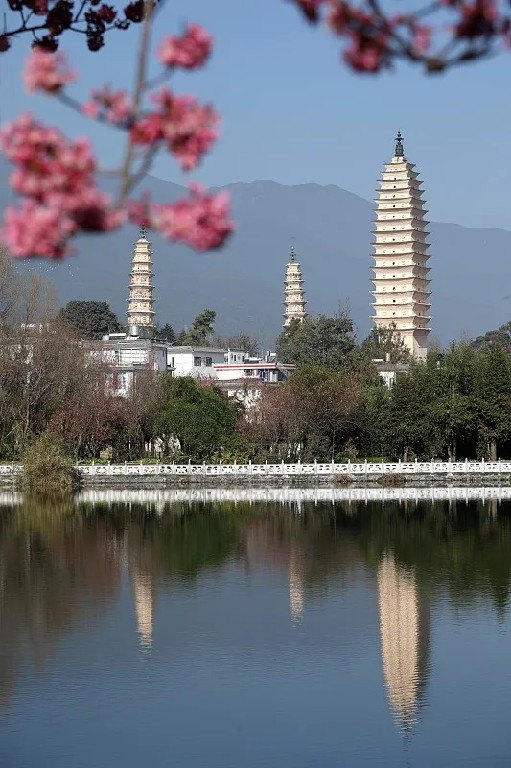ThreePagoda: (369, 131, 433, 359)
